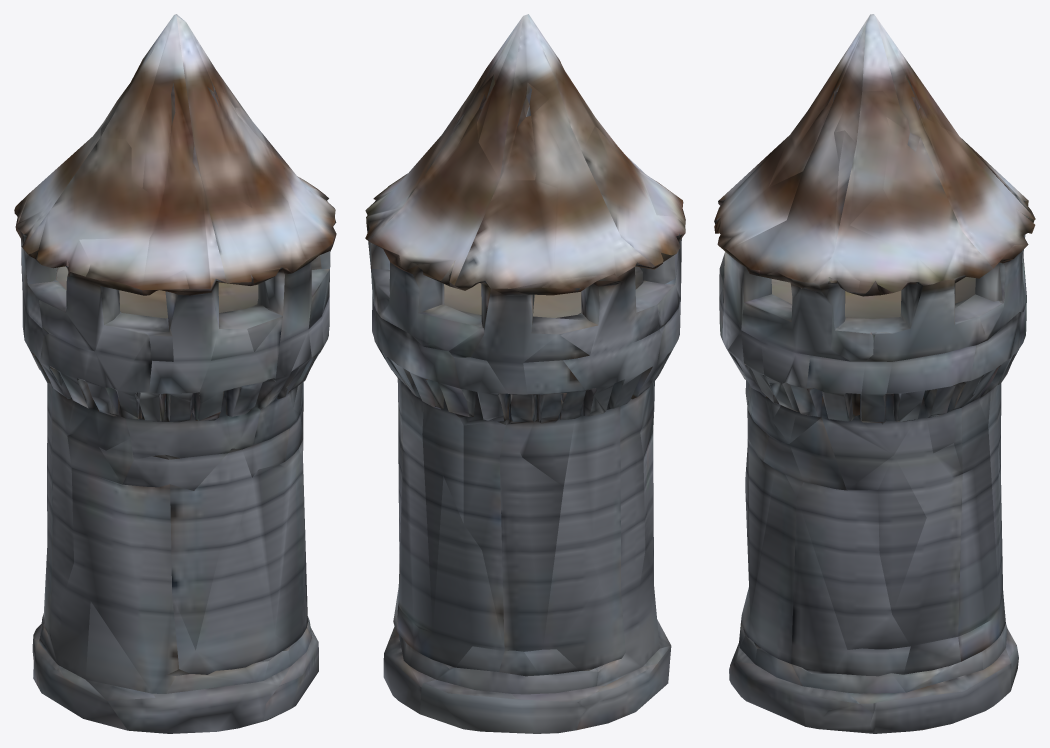
Rendered from tower.glb.
3 renders of one model, left to right at view 1: azimuth 30°, elevation 25°; view 2: azimuth 150°, elevation 25°; view 3: azimuth 270°, elevation 25°, orthographic.
Parts seen in each view (by area): view 1: Mesh; view 2: Mesh; view 3: Mesh.
Part boxes in pixels (x1,y1,x2,y2): Mesh: (14, 14, 336, 733); Mesh: (365, 14, 685, 733); Mesh: (714, 14, 1035, 733).
Size of the model in its own units: 0.8528 by 1.89 by 0.8348.
Materials: 1 (1 with a texture image).
